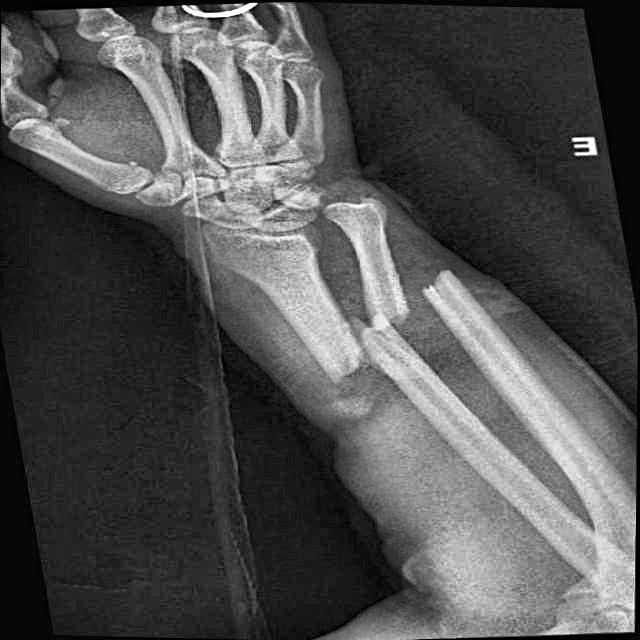Transverse: (305, 311, 421, 402), (358, 262, 490, 340)
